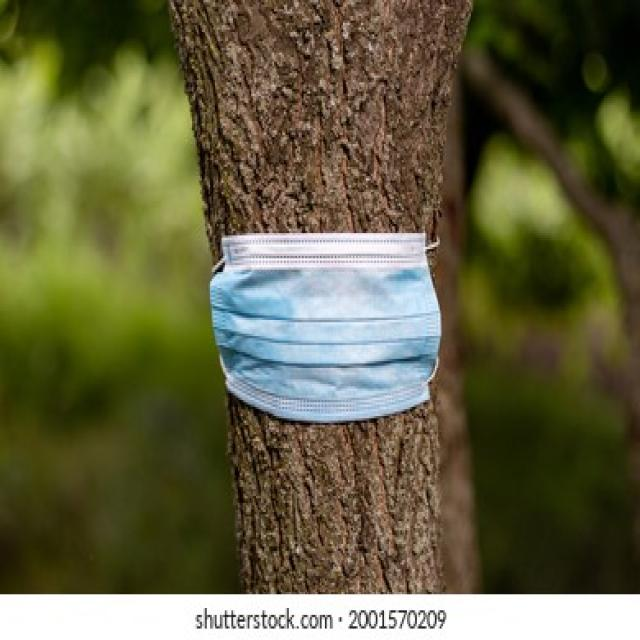non-organic waste: (208, 217, 448, 421)
